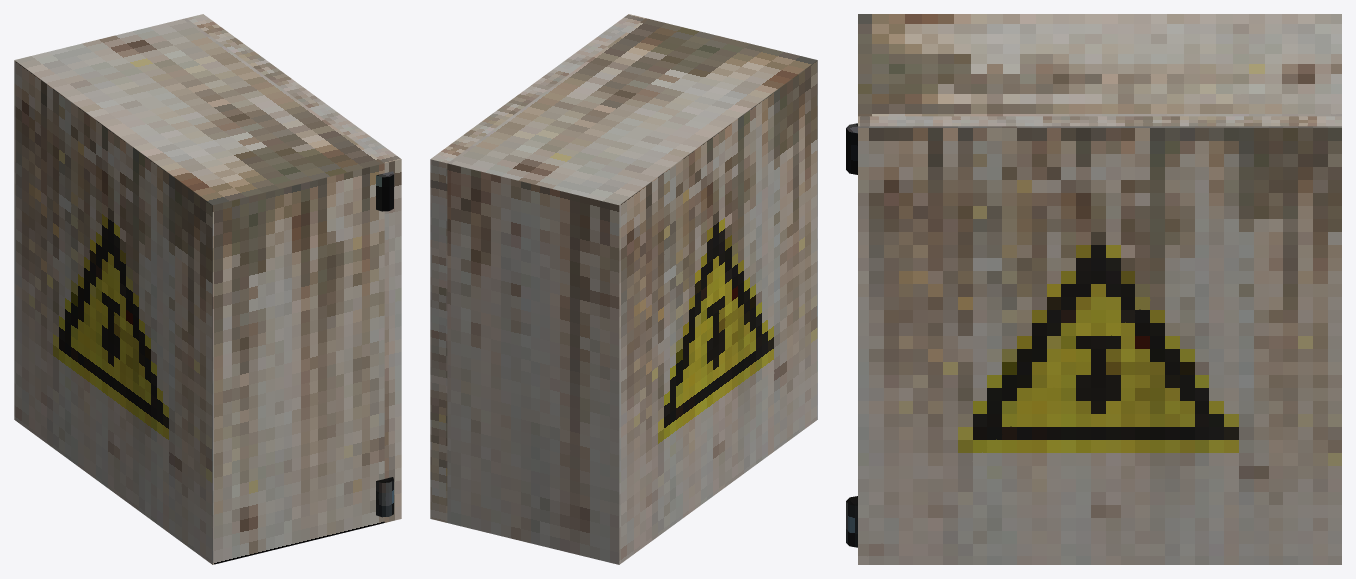
Rendered from fsuboxp.fbx.
The picture shows the model from 3 angles, left to right: view 1: azimuth 30°, elevation 25°; view 2: azimuth 150°, elevation 25°; view 3: azimuth 270°, elevation 25°; orthographic projection. The views are drawn at different scales.
Visible parts, largest first — view 1: Cube, Cylinder; view 2: Cube, Cylinder; view 3: Cylinder, Cube.
Boxes of the visible parts, x1=… form: Cube: x1=14, y1=18, x2=384, y2=564; Cylinder: x1=186, y1=14, x2=401, y2=522; Cube: x1=447, y1=18, x2=817, y2=564; Cylinder: x1=430, y1=14, x2=645, y2=522; Cylinder: x1=846, y1=116, x2=1341, y2=564; Cube: x1=858, y1=14, x2=1341, y2=116.
Size of the model in its own units: 22 by 40 by 41.
Materials: 2 (2 with a texture image).
